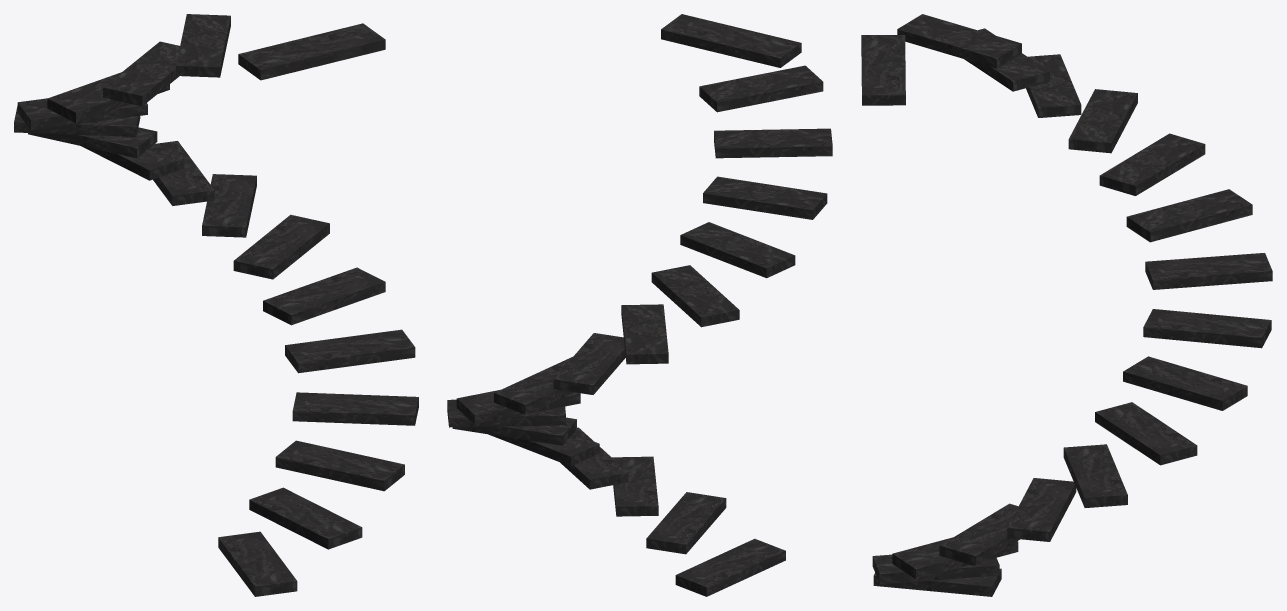
File: stairs.fbx
3 views of the same model, side by side, from view 1: azimuth 30°, elevation 25°; view 2: azimuth 150°, elevation 25°; view 3: azimuth 270°, elevation 25° (orthographic). The views are drawn at different scales.
Visible parts, largest first — view 1: pCube119, pCube125, pCube123, pCube124, pCube126, pCube122, pCube127, pCube121, pCube136, pCube135, pCube128, pCube129 (+5 smaller); view 2: pCube119, pCube134, pCube136, pCube135, pCube133, pCube121, pCube132, pCube122, pCube130, pCube131, pCube123, pCube129 (+5 smaller); view 3: pCube129, pCube130, pCube131, pCube128, pCube136, pCube132, pCube127, pCube119, pCube133, pCube125, pCube126, pCube124 (+5 smaller).
Part boxes in pixels (x1,y1,x2,y2): pCube119: (238, 23, 385, 80); pCube125: (285, 329, 415, 373); pCube123: (275, 440, 404, 491); pCube124: (292, 392, 418, 425); pCube126: (263, 267, 385, 325); pCube122: (249, 487, 362, 549); pCube127: (233, 214, 329, 279); pCube121: (218, 531, 297, 596); pCube136: (176, 14, 230, 77); pCube135: (103, 41, 179, 106); pCube128: (202, 174, 256, 237); pCube129: (153, 141, 214, 205); pCube119: (661, 14, 801, 67); pCube134: (703, 176, 827, 219); pCube136: (699, 65, 823, 112); pCube135: (714, 128, 832, 158); pCube133: (680, 222, 795, 278); pCube121: (675, 538, 785, 596); pCube132: (651, 265, 739, 327); pCube122: (646, 492, 726, 554); pCube130: (553, 333, 625, 394); pCube131: (621, 304, 668, 364); pCube123: (612, 456, 658, 516); pCube129: (494, 357, 573, 414); pCube129: (1143, 309, 1271, 348); pCube130: (1145, 253, 1272, 289); pCube131: (1126, 189, 1252, 242); pCube128: (1123, 356, 1247, 410); pCube136: (897, 14, 1021, 68); pCube132: (1099, 133, 1205, 195); pCube127: (1095, 402, 1197, 465); pCube119: (861, 35, 905, 105); pCube133: (1068, 89, 1137, 153); pCube125: (1007, 478, 1076, 541); pCube126: (1063, 444, 1127, 507); pCube124: (939, 503, 1019, 566).
Bounding box in the file's own units: 370 × 540 × 380.
1 material, 1 textured.
